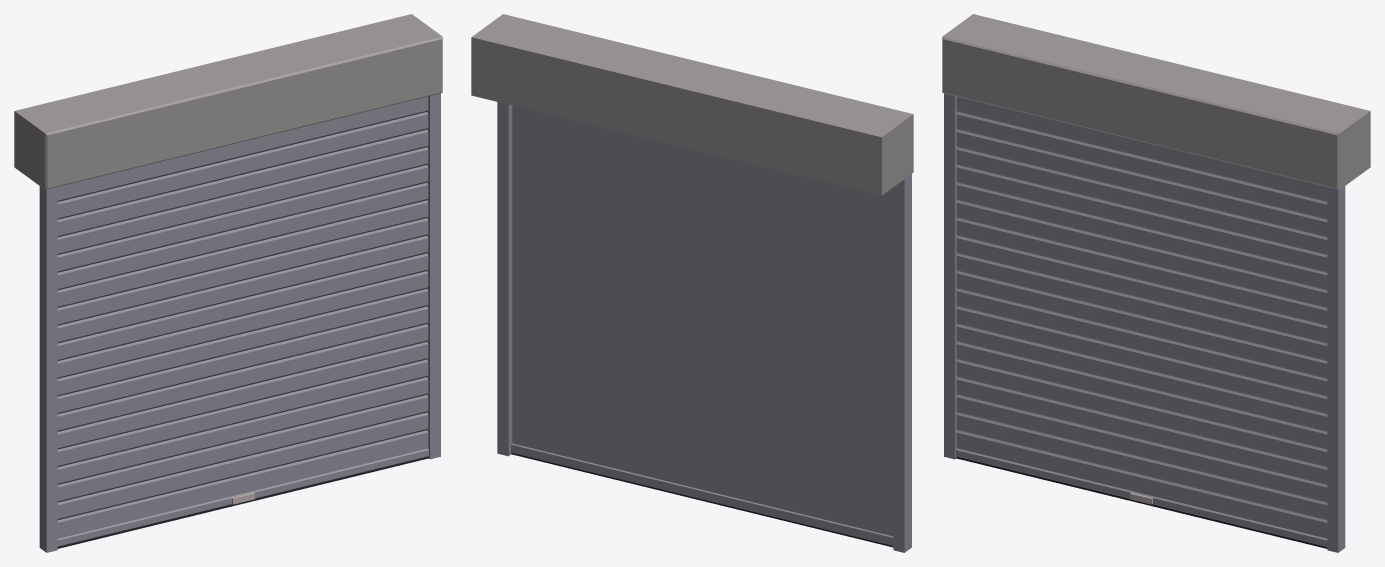
The model's file is SM_Opening_Garage25_Closed_01.gltf.
3 renders of one model, left to right at view 1: azimuth 30°, elevation 25°; view 2: azimuth 150°, elevation 25°; view 3: azimuth 330°, elevation 25°, orthographic. The views are drawn at different scales.
Visible parts, largest first — view 1: SM_Opening_Garage25_Closed_01; view 2: SM_Opening_Garage25_Closed_01; view 3: SM_Opening_Garage25_Closed_01.
Part boxes in pixels (x1,y1,x2,y2): SM_Opening_Garage25_Closed_01: [14, 14, 442, 552]; SM_Opening_Garage25_Closed_01: [471, 14, 913, 552]; SM_Opening_Garage25_Closed_01: [942, 14, 1370, 552].
Bounding box in the file's own units: 2.54 × 2.57 × 0.35.
Materials: 1 (1 with a texture image).
